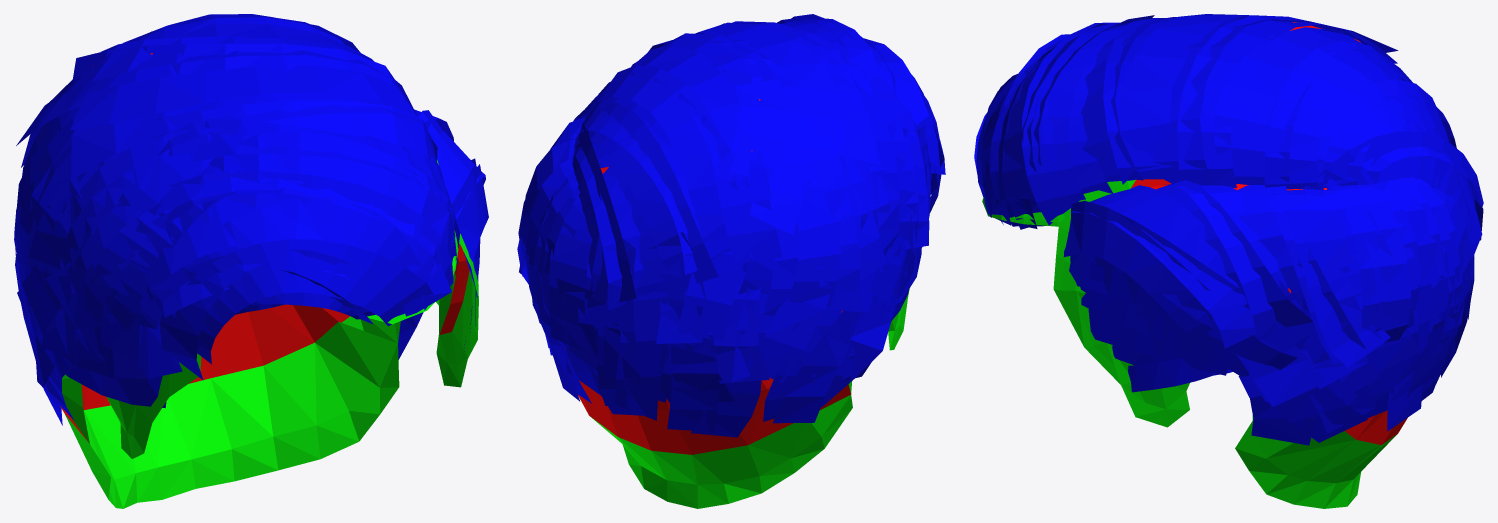
Rendered from hair_002.obj.
3 renders of one model, left to right at view 1: azimuth 30°, elevation 25°; view 2: azimuth 150°, elevation 25°; view 3: azimuth 270°, elevation 25°, orthographic. The views are drawn at different scales.
Size of the model in its own units: 19.21 by 21.78 by 22.05.
